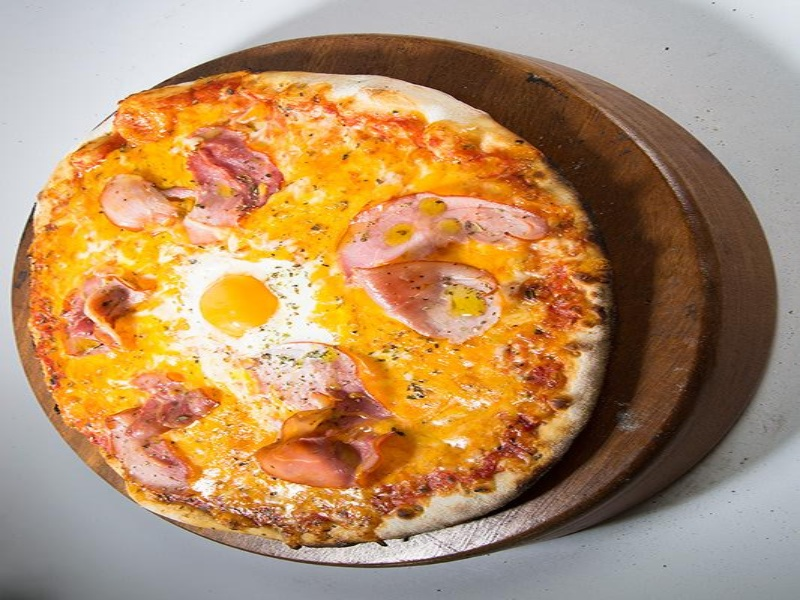oeuf: (178, 263, 317, 341)
